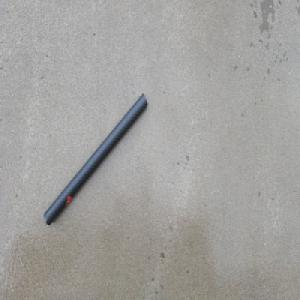LuggagePart: (43, 91, 148, 227)
